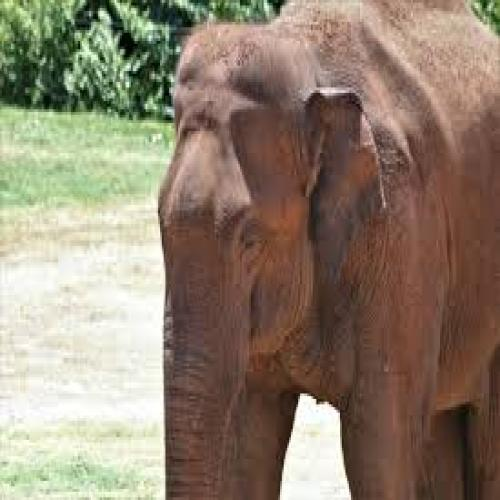asian_elephant-endangered: (156, 0, 498, 500)
